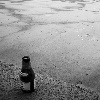beer: (19, 57, 36, 97)
